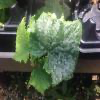Squash Powdery mildew leaf: (26, 15, 82, 88)
